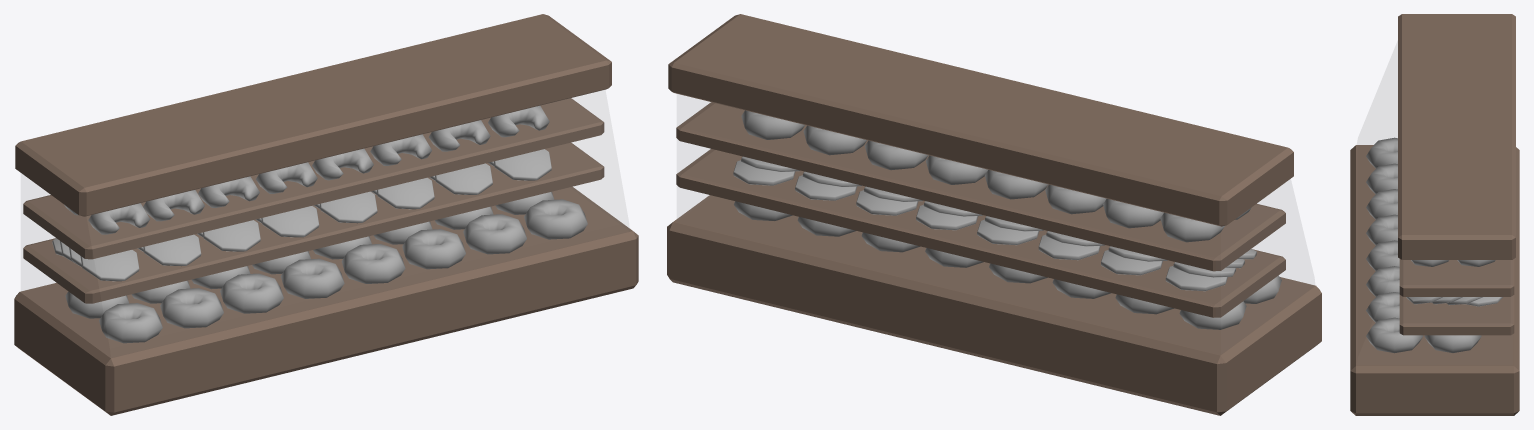
File: sweetDisplay.fbx
3 views of the same model, side by side, from view 1: azimuth 30°, elevation 25°; view 2: azimuth 150°, elevation 25°; view 3: azimuth 270°, elevation 25° (orthographic). The views are drawn at different scales.
Visible parts, largest first — view 1: polySurface410; view 2: polySurface410; view 3: polySurface410.
Part boxes in pixels (x1=…): polySurface410: x1=14, y1=14, x2=638, y2=415; polySurface410: x1=667, y1=14, x2=1321, y2=415; polySurface410: x1=1350, y1=14, x2=1519, y2=415.
Size of the model in its own units: 1.61 by 0.6028 by 0.5111.
